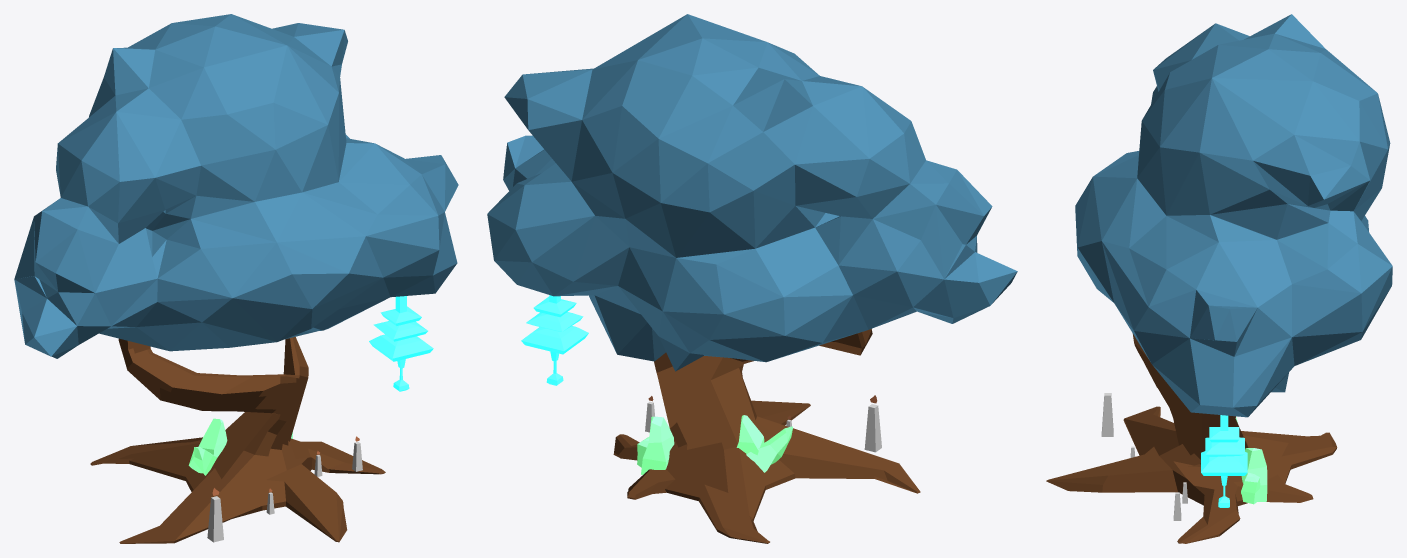
File: ENV_End-tree_Placeholder.fbx
The picture shows the model from 3 angles, left to right: view 1: azimuth 30°, elevation 25°; view 2: azimuth 150°, elevation 25°; view 3: azimuth 270°, elevation 25°; orthographic projection. The views are drawn at different scales.
Visible parts, largest first — view 1: Tree_Low Poly.002, Candle4.002, Cube.028; view 2: Tree_Low Poly.002, Cube.028, Cube.025, Candle4.002; view 3: Tree_Low Poly.002, Cube.025, Candle4.002.
Part boxes in pixels (x1,y1,x2,y2): Tree_Low Poly.002: (14,14,458,543); Candle4.002: (207,436,362,542); Cube.028: (188,418,227,475); Tree_Low Poly.002: (487,14,1017,543); Cube.028: (736,415,792,472); Cube.025: (637,416,674,474); Candle4.002: (645,395,881,452); Tree_Low Poly.002: (1046,14,1392,543); Cube.025: (1241,448,1267,504); Candle4.002: (1101,393,1187,520).
Bounding box in the file's own units: 914 × 612 × 847.
